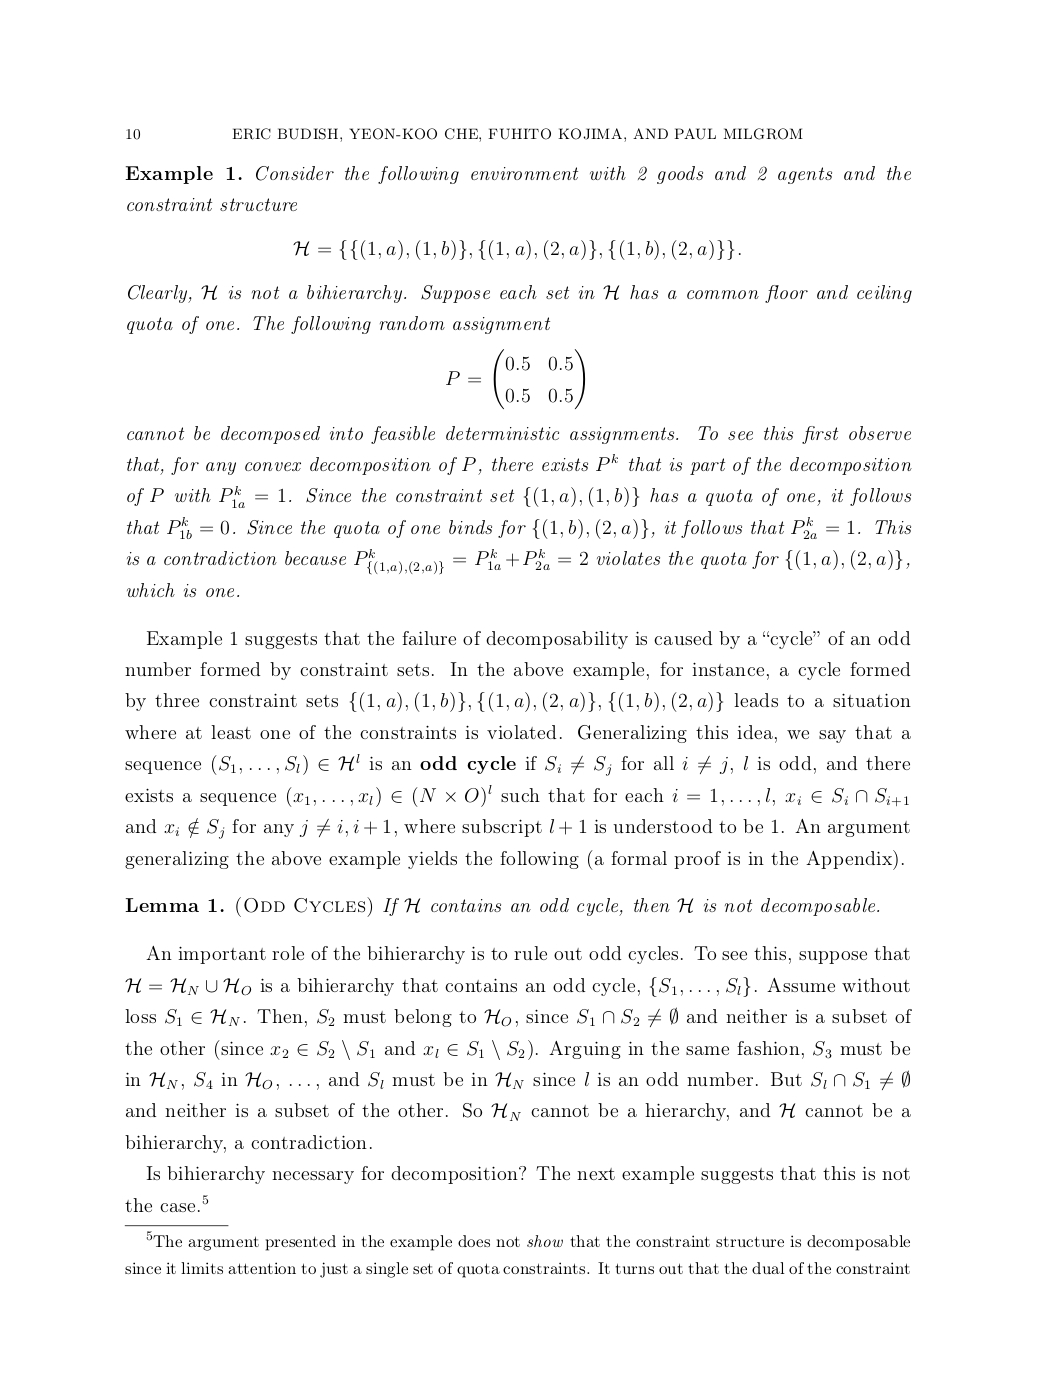formula: (293, 238, 740, 260), (446, 348, 585, 410)
